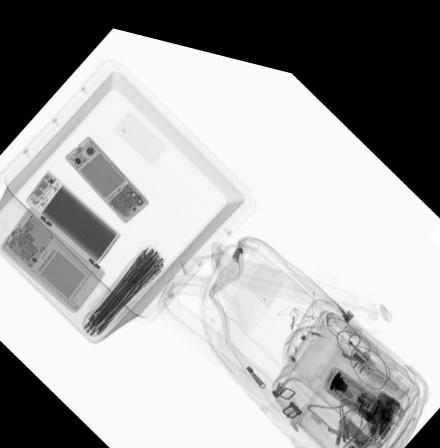Powerbank: (23, 166, 121, 259)
